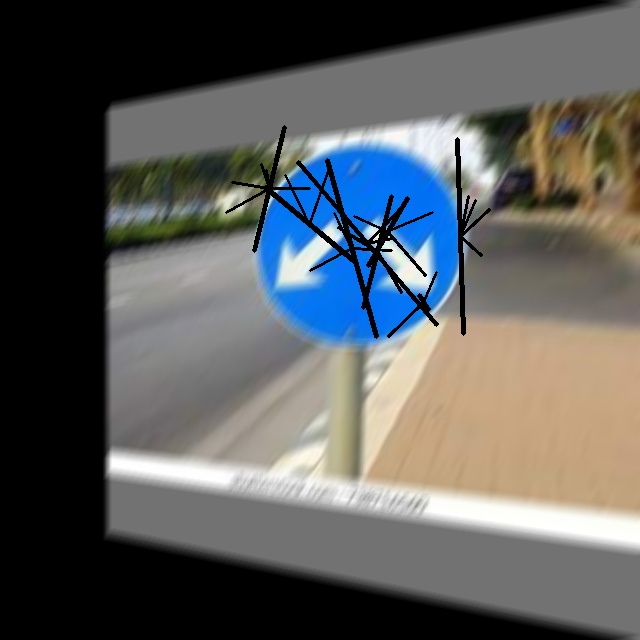Pass_Either_Side: (254, 127, 469, 348)
